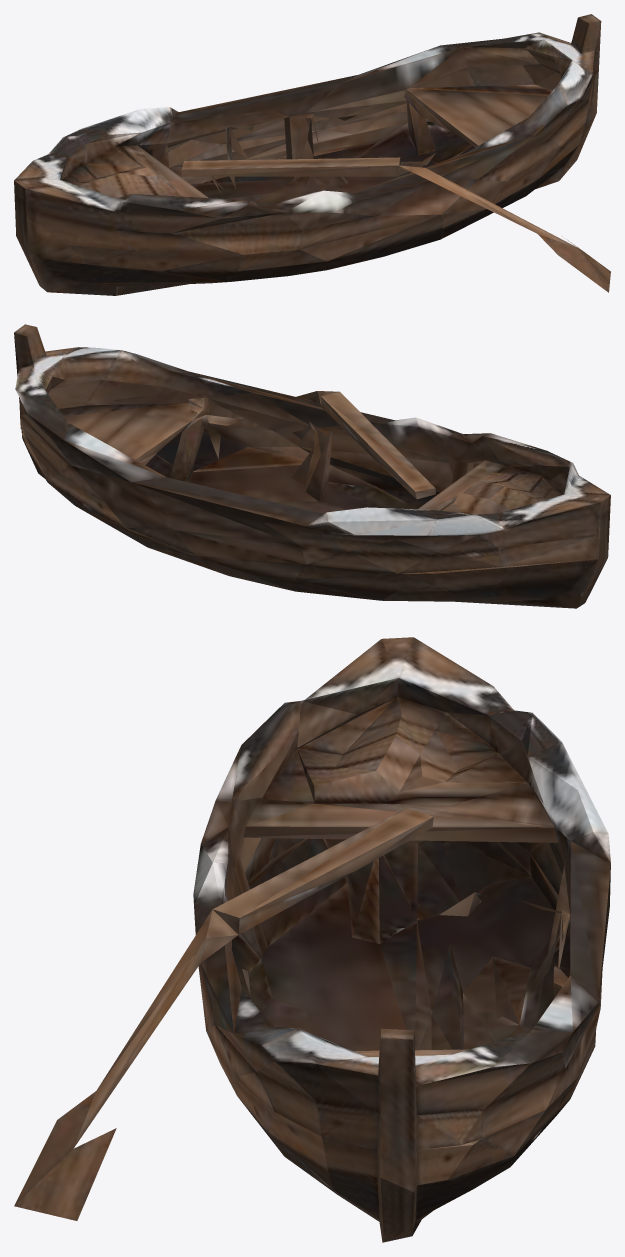
File: rowboat.glb
3 views of the same model, one above another, from view 1: azimuth 30°, elevation 25°; view 2: azimuth 150°, elevation 25°; view 3: azimuth 270°, elevation 25° (orthographic). The views are drawn at different scales.
Size of the model in its own units: 1.89 by 0.5232 by 1.08.
1 material, 1 textured.
